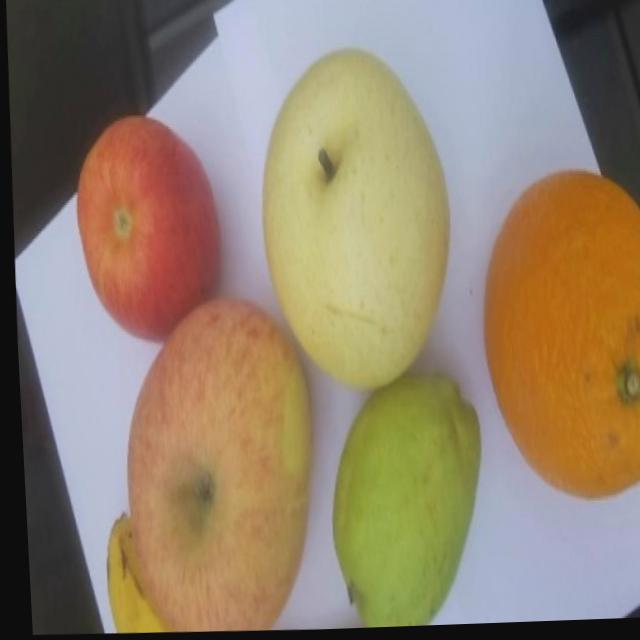Apple: (89, 295, 319, 637), (66, 113, 224, 349)
Orange: (469, 170, 640, 510)
